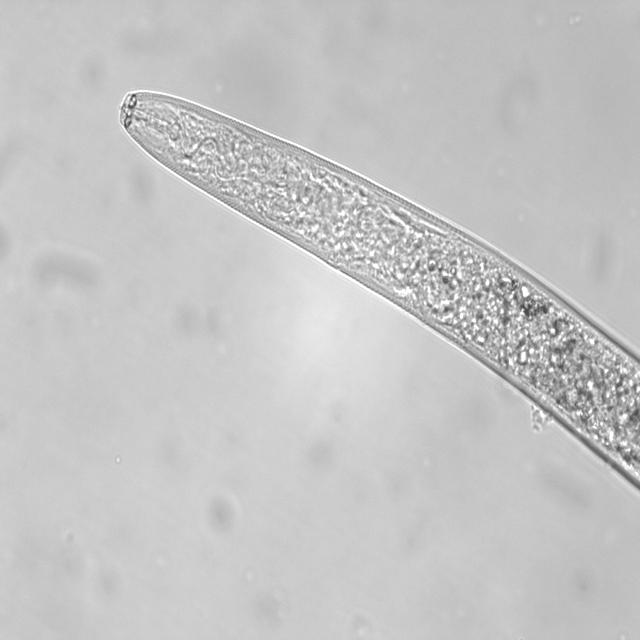Pratylenchus: (103, 75, 640, 524)
